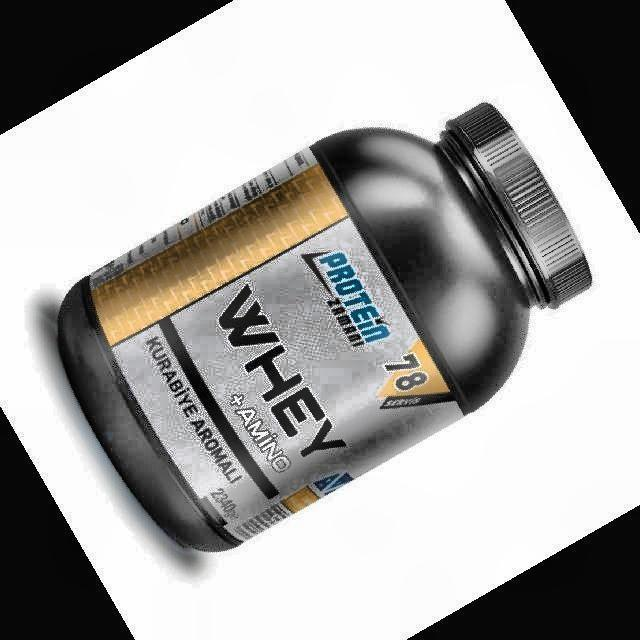plastic: (58, 104, 590, 551)
